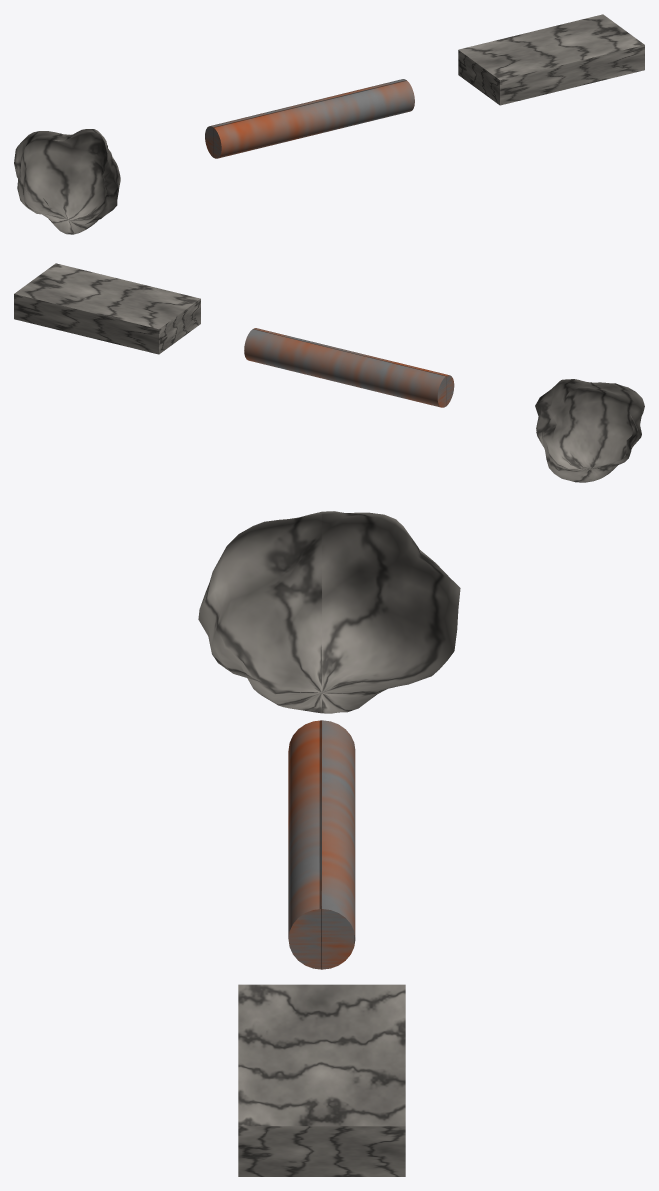
File: obstacles.gltf
The picture shows the model from 3 angles, top to bottom: view 1: azimuth 30°, elevation 25°; view 2: azimuth 150°, elevation 25°; view 3: azimuth 270°, elevation 25°; orthographic projection. The views are drawn at different scales.
Visible parts, largest first — view 1: Ledge, Rock, Pipe; view 2: Ledge, Rock, Pipe; view 3: Rock, Ledge, Pipe.
Part boxes in pixels (<box>): Ledge: <box>458,14,644,105</box>; Rock: <box>14,129,120,234</box>; Pipe: <box>205,79,414,158</box>; Ledge: <box>14,263,200,354</box>; Rock: <box>535,379,644,482</box>; Pipe: <box>244,328,454,407</box>; Rock: <box>198,511,460,713</box>; Ledge: <box>238,984,405,1176</box>; Pipe: <box>288,720,355,969</box>.
Size of the model in its own units: 12.47 by 1.74 by 2.35.
2 materials, 2 textured.
